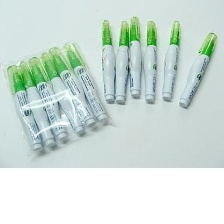correction_fluid: (46, 45, 98, 130), (60, 41, 109, 124), (40, 49, 86, 137), (15, 56, 58, 149), (25, 53, 69, 143), (5, 62, 45, 153), (179, 30, 219, 109), (160, 19, 182, 102), (140, 19, 160, 103), (99, 17, 118, 103), (113, 18, 131, 105), (127, 15, 142, 99)
